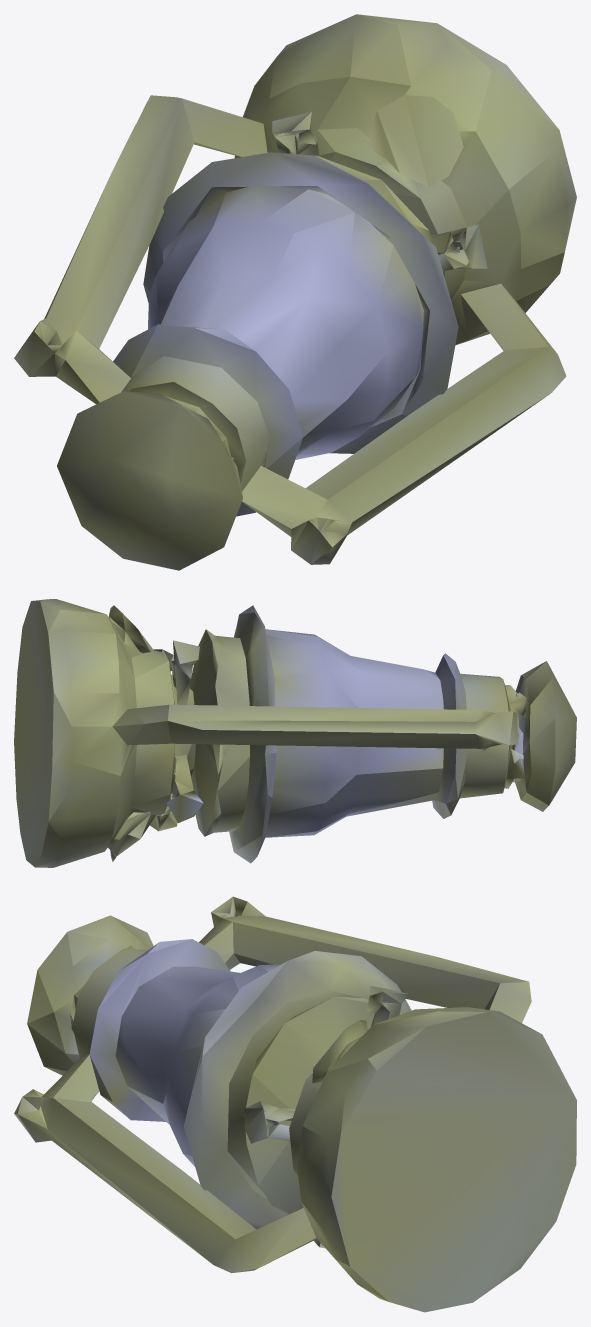
Rendered from Lantern01.fbx.
3 views of the same model, one above another, from view 1: azimuth 30°, elevation 25°; view 2: azimuth 150°, elevation 25°; view 3: azimuth 270°, elevation 25° (orthographic). The views are drawn at different scales.
Parts seen in each view (by area): view 1: Lantern; view 2: Lantern; view 3: Lantern.
Boxes of the visible parts, box(x1,y1,x2,y2) form: Lantern: box(14, 14, 576, 570); Lantern: box(14, 599, 576, 867); Lantern: box(14, 896, 576, 1312).
Bounding box in the file's own units: 52.68 × 27.34 × 47.93.
